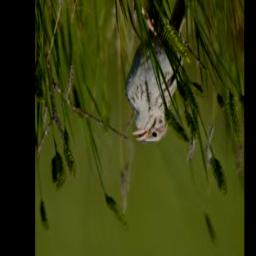Sparrow: (124, 0, 192, 145)
